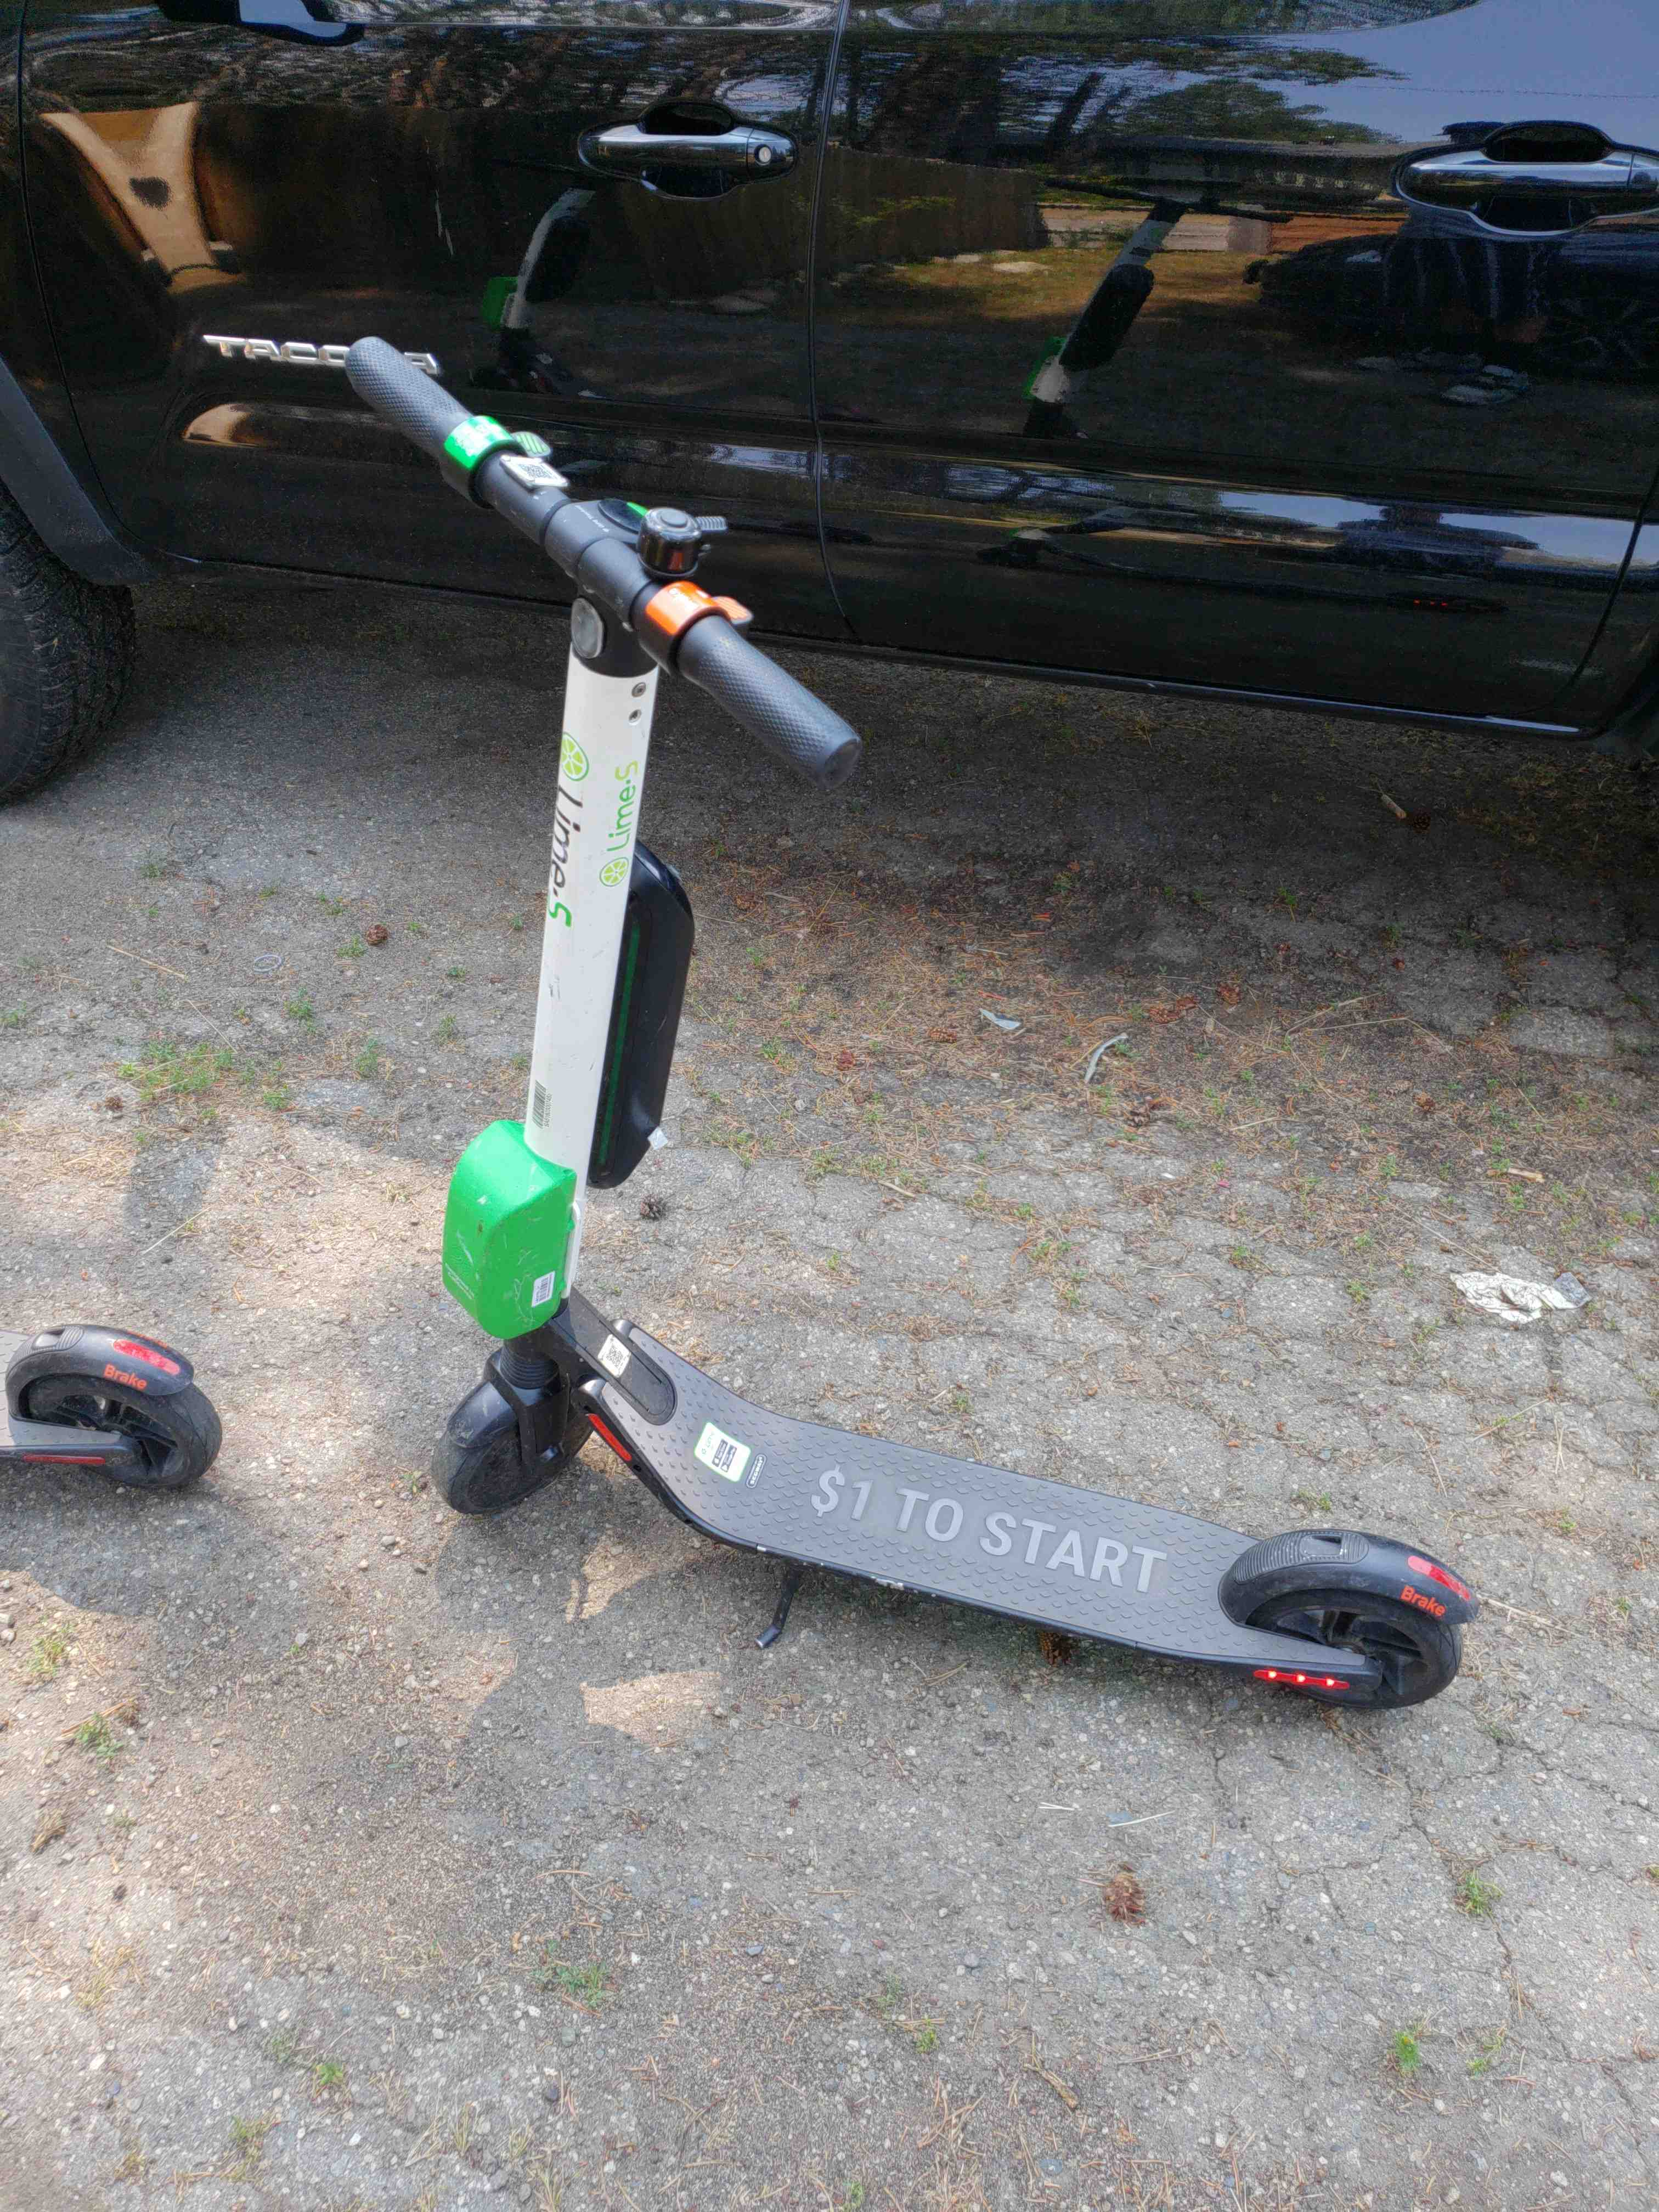scooter: (312, 315, 1516, 1778)
